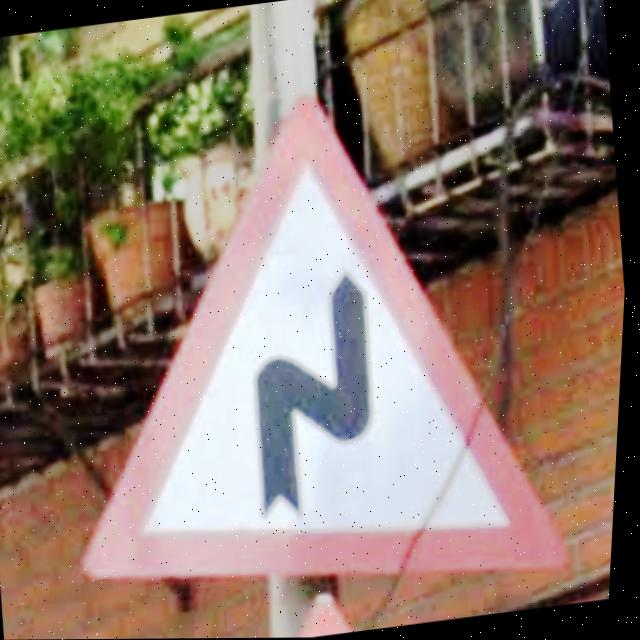doublebendright: (89, 93, 574, 586)
